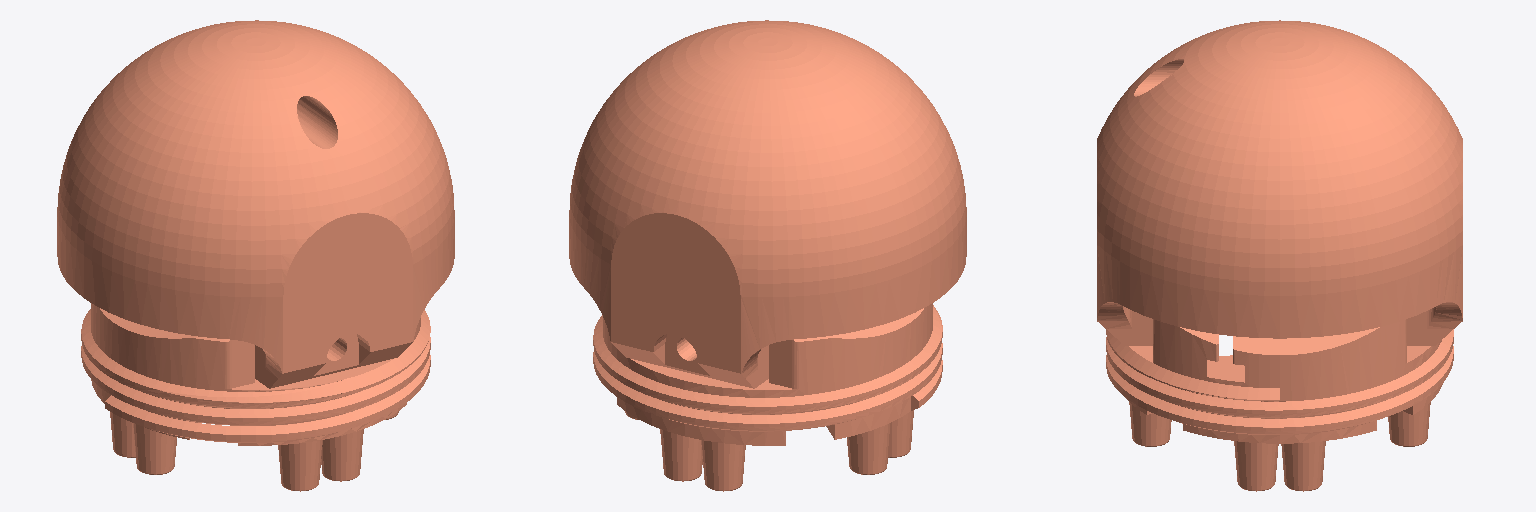
The robot description file, URDF, robot "fingertip":
<?xml version='1.0' encoding='UTF-8'?>
<robot name="fingertip">
  <link name="base_link">
    <inertial>
      <origin xyz="-4.45136749414631e-05 2.74911354251475e-05 0.01526296474957" rpy="0.0 -0.0 0.0"/>
      <mass value="0.0143355339373342"/>
      <inertia ixx="1.67198153889703e-06" ixy="-3.86118634343168e-09" ixz="2.09684473771432e-09" iyy="2.41636111915256e-06" iyz="2.62797611358753e-09" izz="2.60259577595367e-06"/>
    </inertial>
    <visual>
      <geometry>
        <mesh filename="package://fingertip/meshes/base_link.dae"/>
      </geometry>
      <material name="__unnamed_material_1"/>
      <origin xyz="0.0 0.0 0.0" rpy="0.0 -0.0 0.0"/>
    </visual>
    <collision>
      <geometry>
        <mesh filename="package://fingertip/meshes/base_link.dae"/>
      </geometry>
      <origin xyz="0.0 0.0 0.0" rpy="0.0 -0.0 0.0"/>
    </collision>
  </link>
  <material name="__unnamed_material_1">
    <color rgba="1.         0.6627451  0.54117647 1.        "/>
  </material>
</robot>

--- What the picture shows (computed from the rendered views, not written in the file) ---
The picture shows the robot from 3 angles, left to right: view 1: azimuth 30°, elevation 25°; view 2: azimuth 150°, elevation 25°; view 3: azimuth 270°, elevation 25°; orthographic projection.
Robot: fingertip — 1 links, 0 joints (none); root link base_link; default pose: all joints at 0.
Links seen in each view (by area): view 1: base_link; view 2: base_link; view 3: base_link.
Boxes of the visible links, x1=… form: base_link: x1=57, y1=20, x2=454, y2=491; base_link: x1=569, y1=20, x2=966, y2=491; base_link: x1=1097, y1=20, x2=1462, y2=491.
Size in the robot's own frame: 0.0421 by 0.039 by 0.0455 metres.
1 mesh visuals loaded from 1 distinct referenced files (1 Collada DAE).